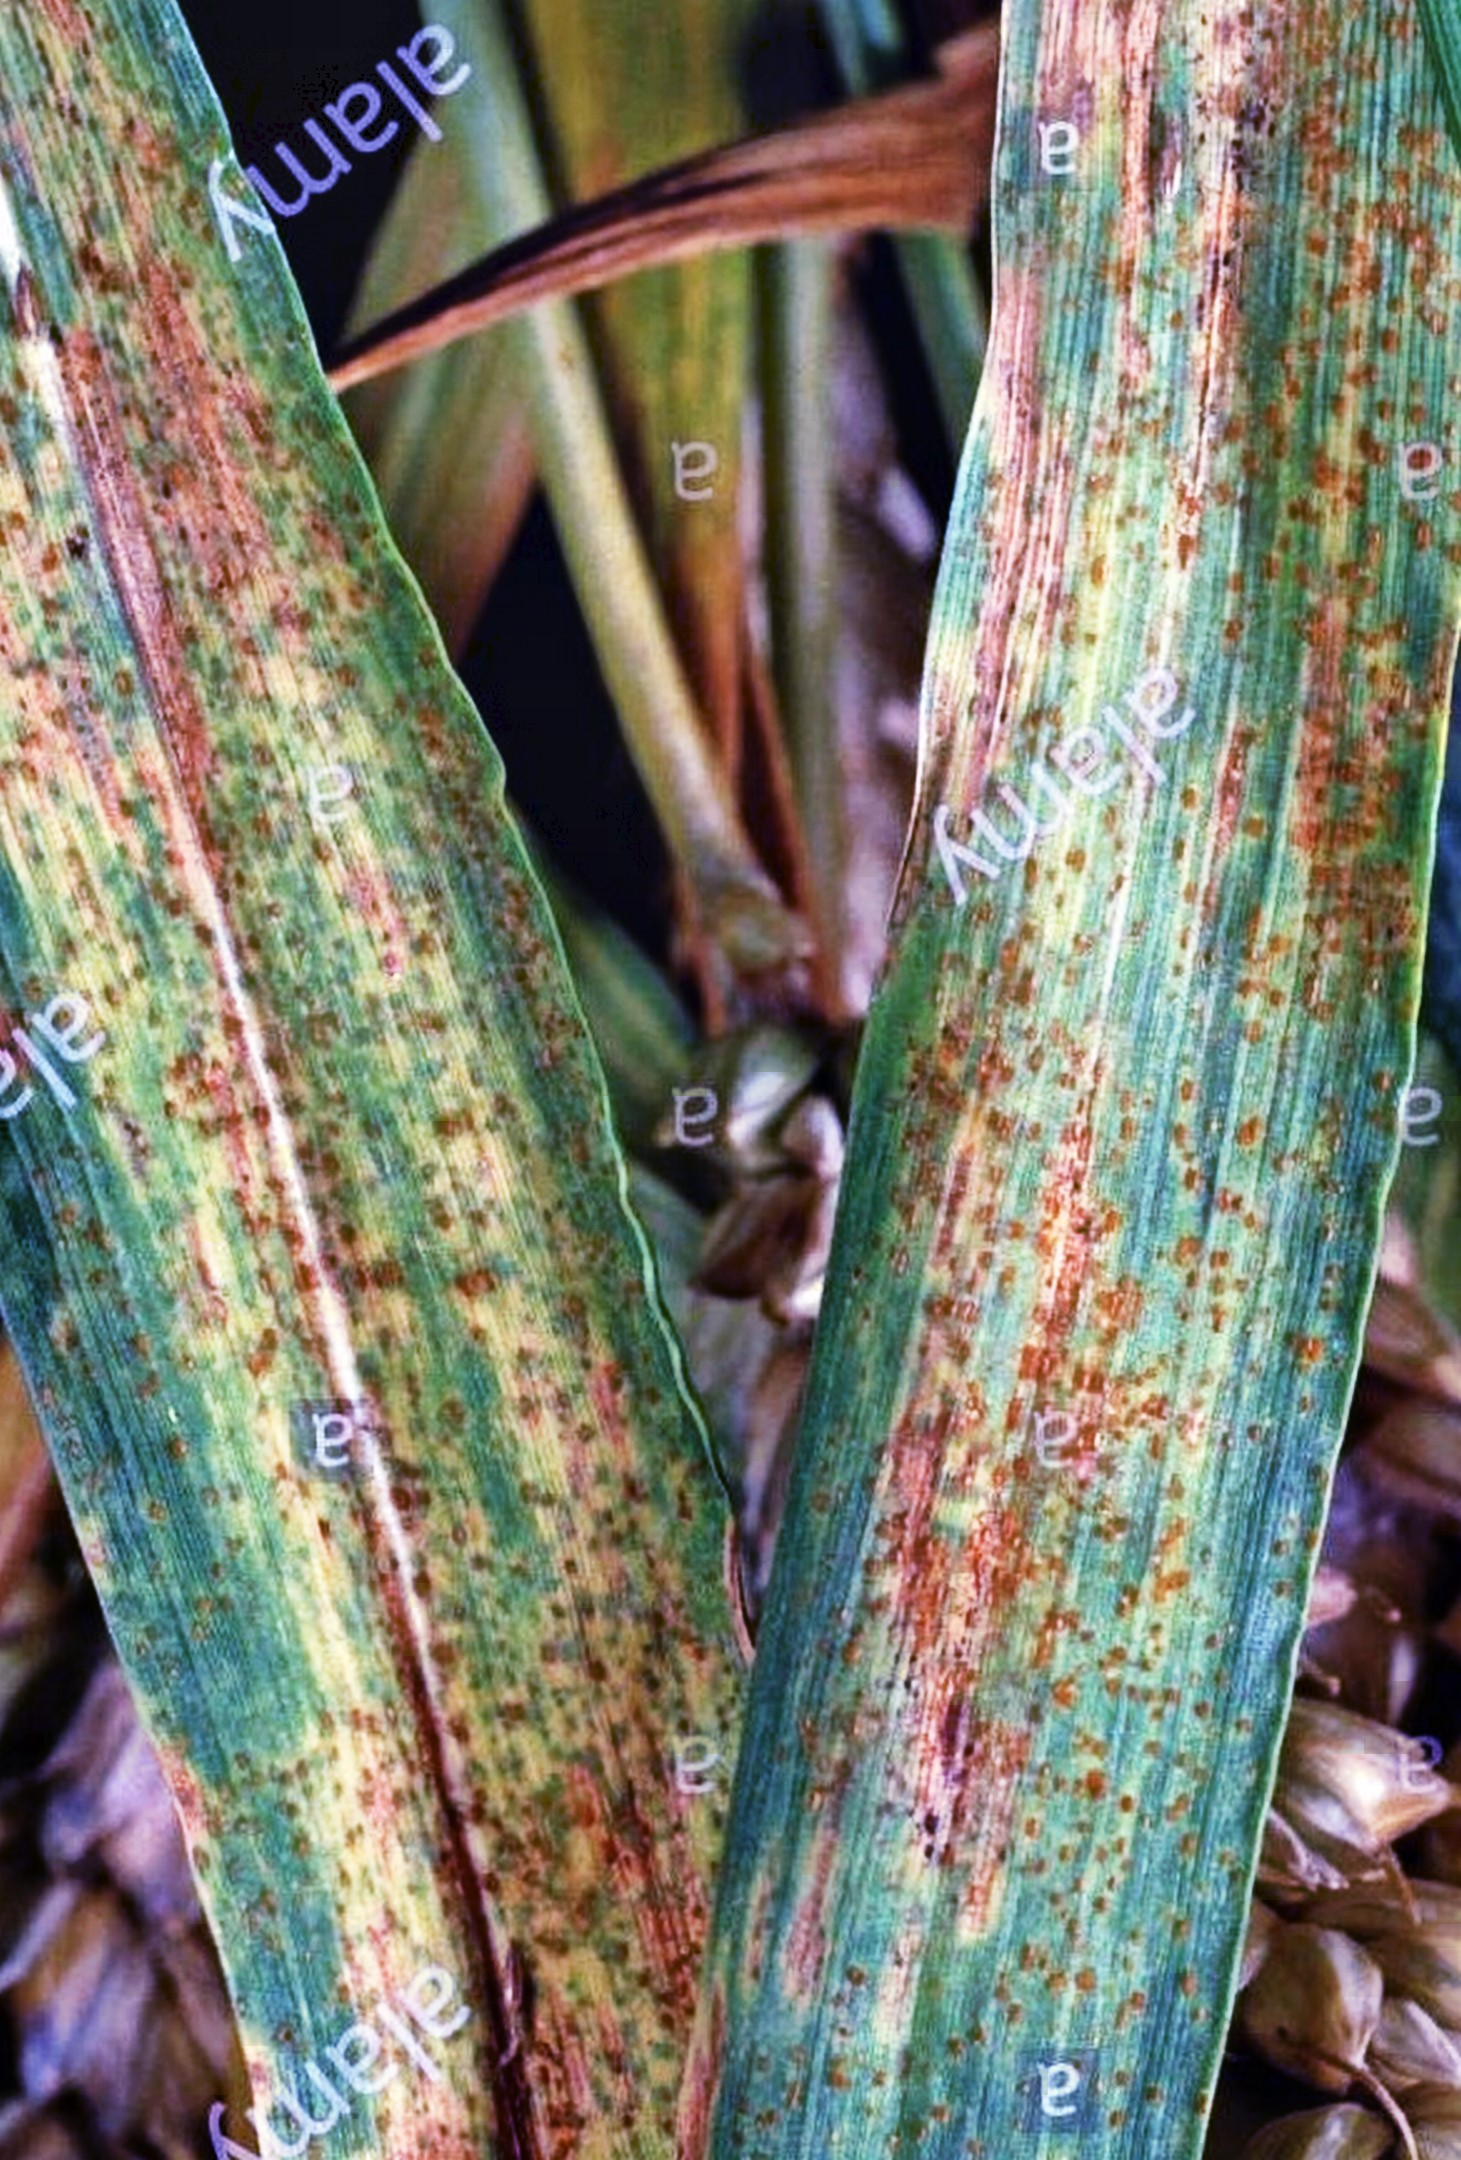Leaf Rust: (78, 768, 1420, 1982)
